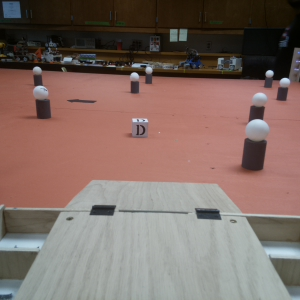obstacle: (243, 120, 266, 175), (34, 87, 51, 118), (250, 93, 265, 121), (277, 78, 290, 101), (31, 66, 43, 87), (130, 72, 140, 94), (144, 66, 154, 84), (264, 68, 273, 87)
slope: (64, 175, 252, 222)
